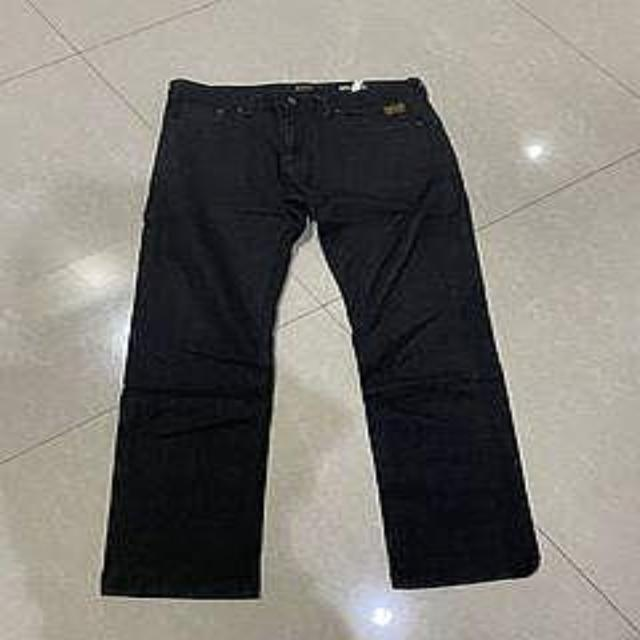TROUSER: (96, 59, 552, 609)
